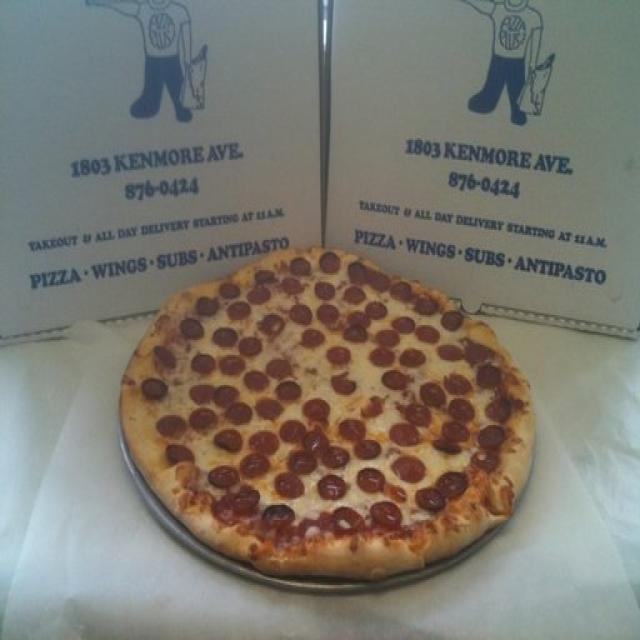Pepperoni: (195, 384, 253, 450), (284, 422, 348, 470), (211, 463, 258, 516), (342, 417, 380, 459), (214, 329, 258, 354), (351, 260, 386, 290), (441, 345, 488, 365), (437, 422, 466, 454), (193, 356, 241, 374), (368, 501, 403, 525), (388, 422, 421, 446), (250, 270, 273, 304), (334, 505, 361, 533), (392, 458, 424, 480), (278, 475, 306, 499), (440, 470, 464, 498), (242, 456, 272, 478), (257, 396, 284, 420), (488, 398, 512, 425), (472, 446, 497, 471), (158, 414, 184, 438), (318, 476, 344, 500), (249, 433, 279, 453), (265, 503, 293, 524), (446, 374, 473, 395), (306, 398, 330, 421), (156, 347, 178, 372), (478, 363, 499, 389), (418, 488, 443, 509), (268, 357, 294, 377), (421, 384, 444, 406), (449, 400, 473, 421), (405, 404, 430, 424), (144, 378, 166, 399), (373, 346, 394, 368), (360, 472, 383, 491), (169, 444, 193, 462), (333, 375, 357, 393), (398, 348, 422, 366), (199, 296, 220, 316), (384, 370, 406, 389), (291, 306, 310, 326), (421, 324, 440, 344), (262, 314, 280, 335), (230, 302, 250, 320), (316, 282, 336, 300), (181, 318, 202, 335), (320, 304, 337, 325), (347, 285, 366, 303), (444, 310, 462, 329), (378, 329, 398, 346), (481, 427, 502, 443), (279, 383, 301, 398), (289, 257, 309, 273), (251, 371, 266, 392), (302, 331, 323, 346), (284, 278, 306, 292), (369, 302, 385, 321), (421, 296, 436, 316), (397, 316, 413, 334), (346, 324, 362, 341), (353, 311, 369, 328), (395, 281, 408, 301), (323, 255, 338, 272), (331, 348, 349, 361), (220, 286, 238, 298)
Pizza: (117, 246, 539, 573)
